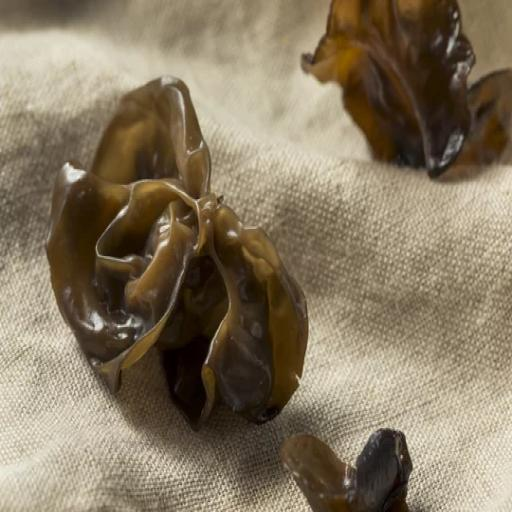Wood Ear Mushroom: (36, 77, 317, 434), (298, 0, 512, 185), (279, 411, 427, 512)
